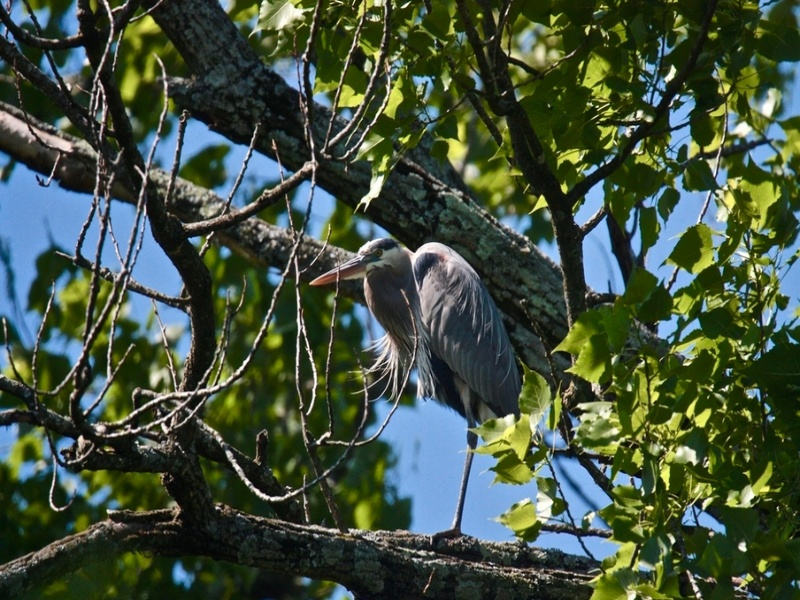heron: (305, 235, 526, 540)
